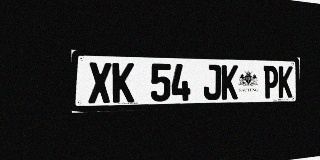4: (171, 64, 190, 101)
5: (151, 63, 171, 102)
J: (203, 64, 221, 100)
K: (112, 63, 134, 103), (221, 65, 238, 100), (278, 66, 293, 98)
P: (263, 66, 278, 98)
X: (88, 62, 111, 104)
